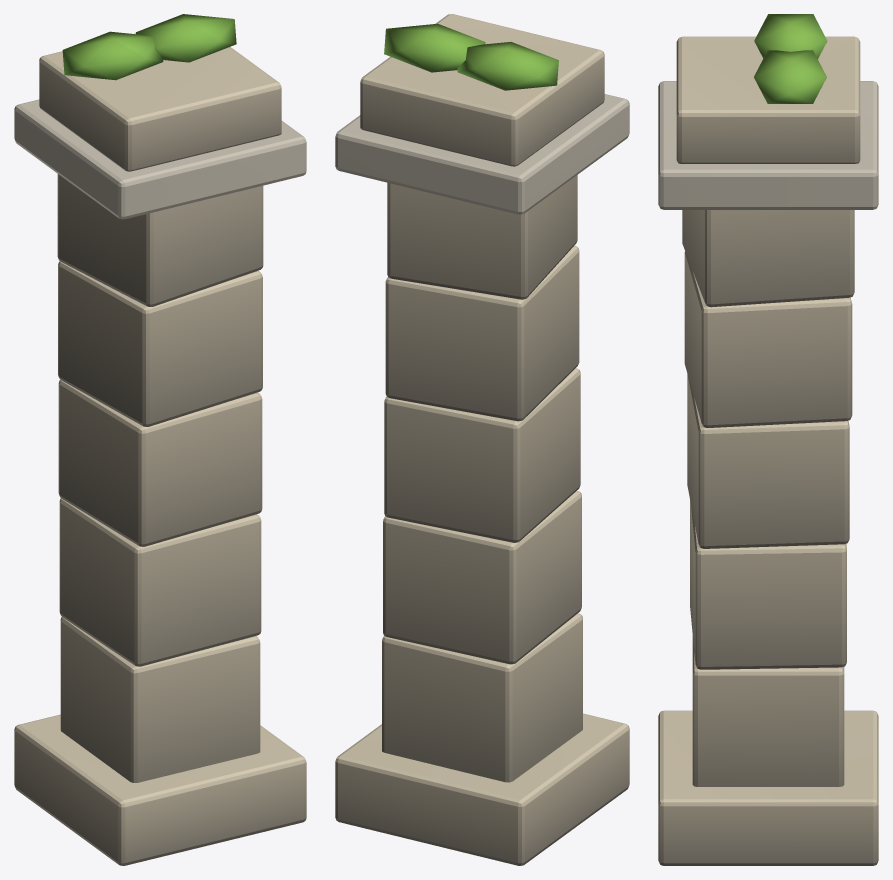
The model's file is ruin_pillar.glb.
The picture shows the model from 3 angles, left to right: view 1: azimuth 30°, elevation 25°; view 2: azimuth 150°, elevation 25°; view 3: azimuth 270°, elevation 25°; orthographic projection.
Parts seen in each view (by area): view 1: Pillar; view 2: Pillar; view 3: Pillar.
Part boxes in pixels (x1,y1,x2,y2): Pillar: (14, 14, 306, 865); Pillar: (335, 14, 629, 865); Pillar: (658, 14, 878, 865).
Bounding box in the file's own units: 0.9 × 3.52 × 0.9.
